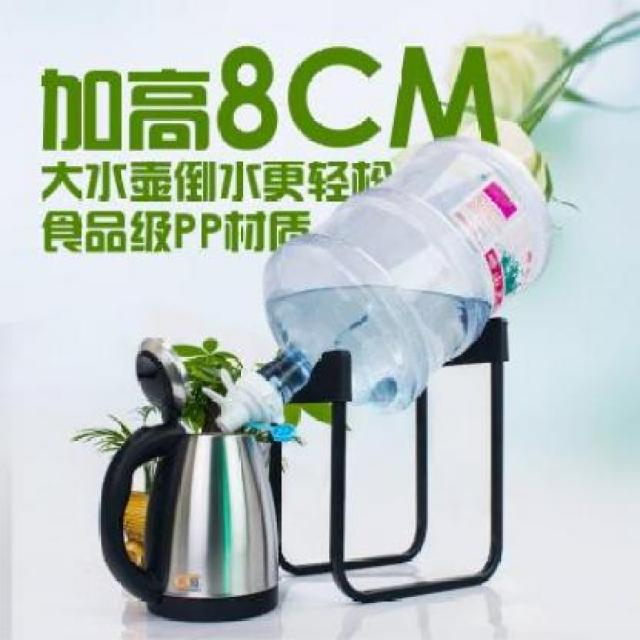coolerbottle: (232, 129, 563, 425)
